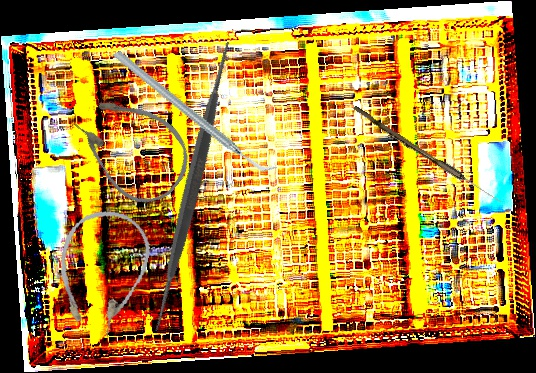Cannula: (58, 76, 205, 218), (46, 202, 157, 343)
Chopper: (111, 11, 278, 212)
Spatula Surgical: (38, 33, 346, 340)
Surgical Spoon: (351, 105, 503, 205)
